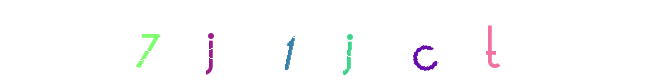1: (290, 0, 370, 80)
7: (121, 0, 201, 80)
C: (308, 0, 388, 80)
J: (249, 0, 329, 80), (302, 0, 382, 80)
T: (405, 0, 485, 80)
